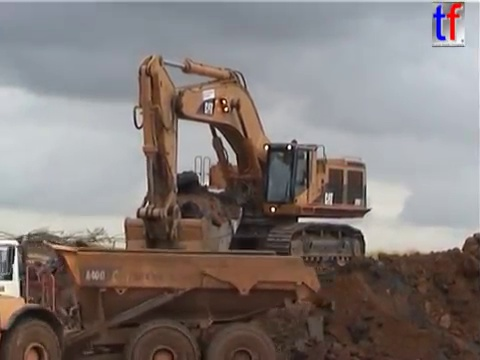excavator: (119, 49, 373, 275)
truck: (1, 230, 324, 360)
